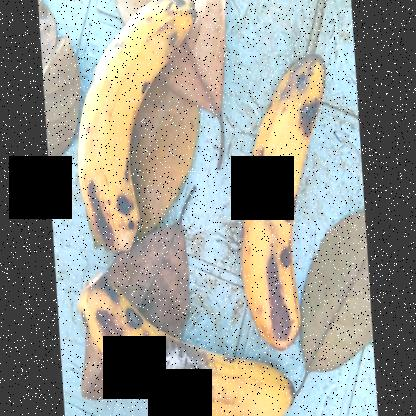overripe: (66, 1, 201, 265), (65, 275, 305, 415), (240, 42, 336, 356)
rotten: (140, 316, 220, 416)
